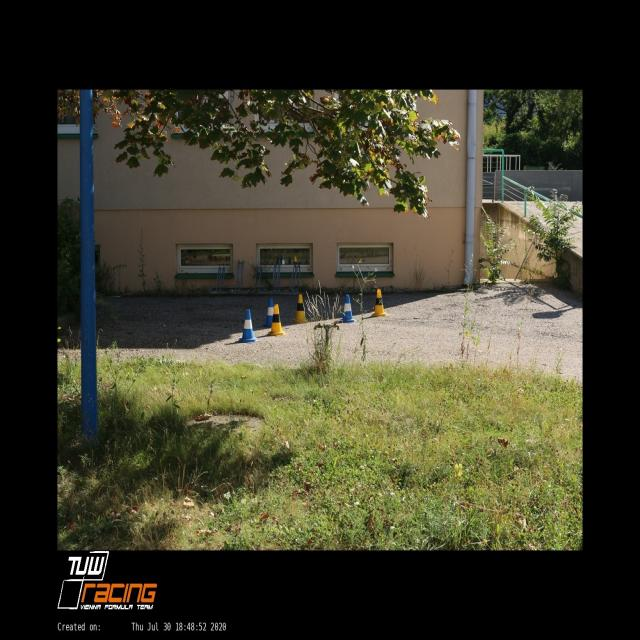blue_cone: (238, 309, 258, 343), (338, 294, 358, 322), (262, 298, 278, 327)
yellow_cone: (268, 304, 287, 337), (291, 294, 308, 324), (370, 289, 387, 317)
